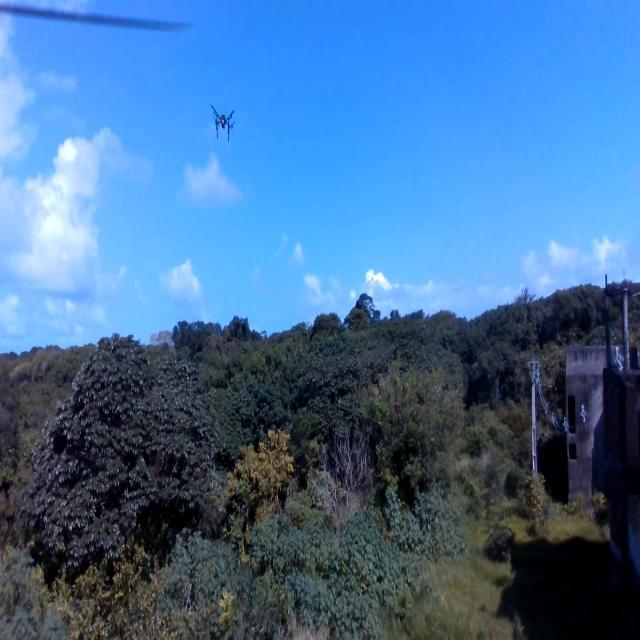-uav-: (205, 94, 241, 151)
